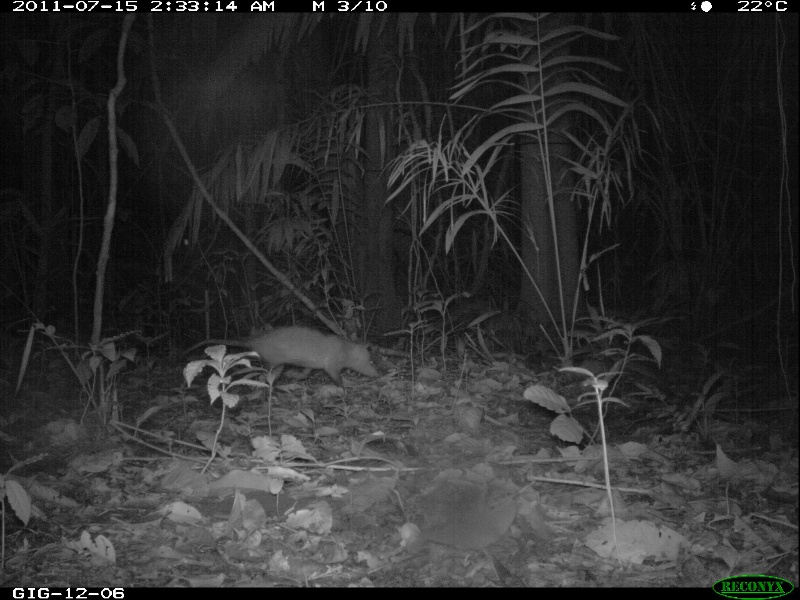opossum: (169, 328, 384, 383)
